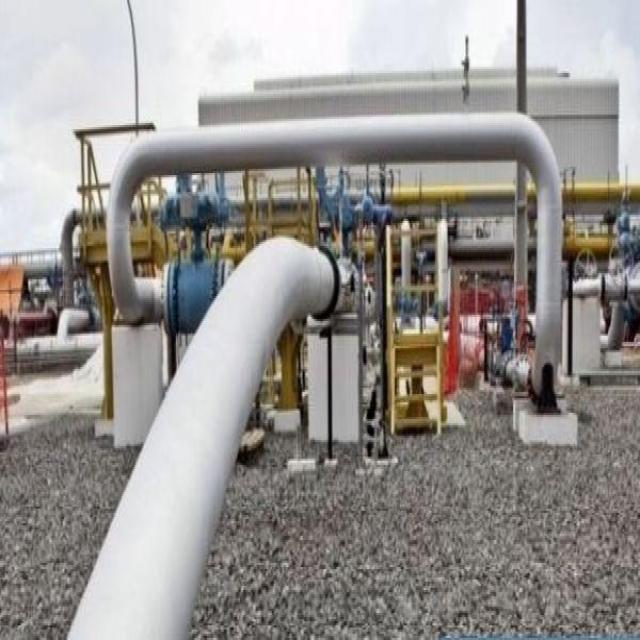gas: (109, 115, 562, 405), (64, 242, 353, 640)
